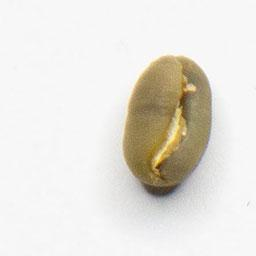peaberry: (118, 50, 218, 194)
